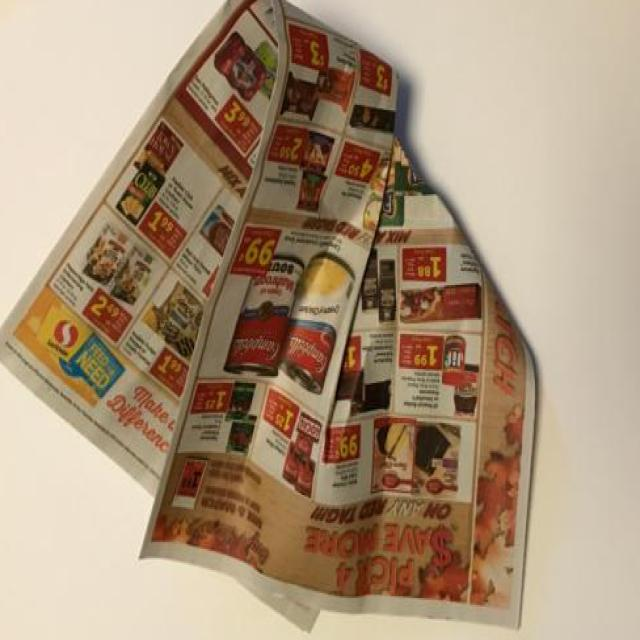kertas: (0, 0, 539, 637)
